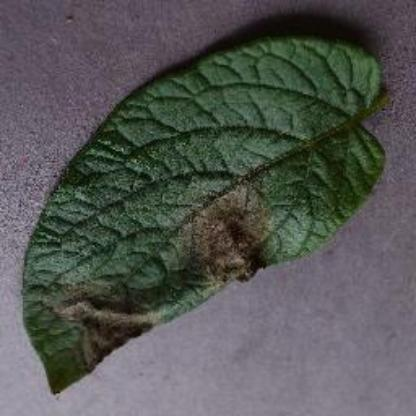Late-Blight: (21, 31, 416, 396)
